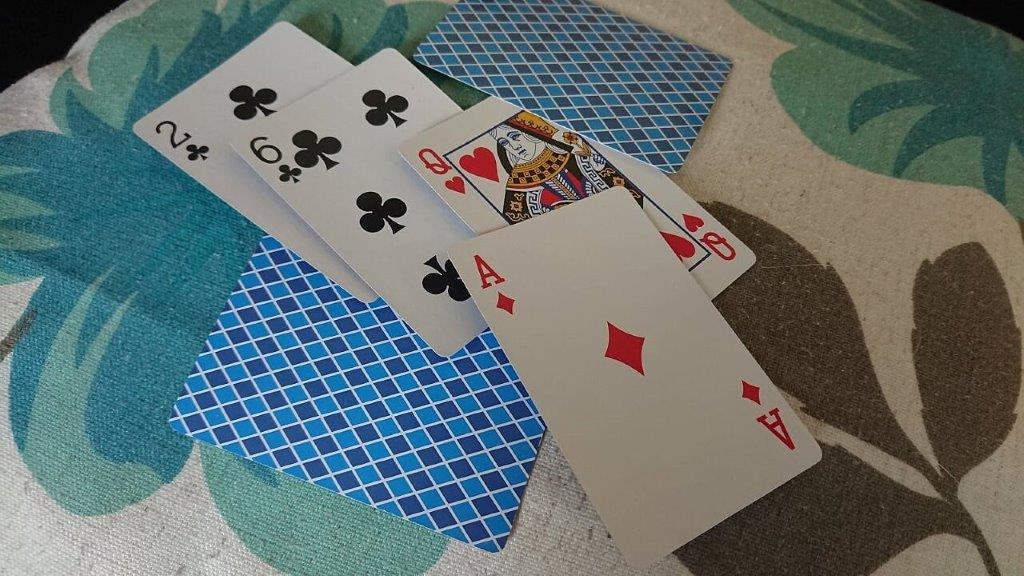2C: (146, 113, 218, 170)
6C: (244, 129, 305, 190)
AD: (465, 246, 523, 321)
BACK: (167, 429, 546, 553)
QH: (418, 142, 471, 206)
